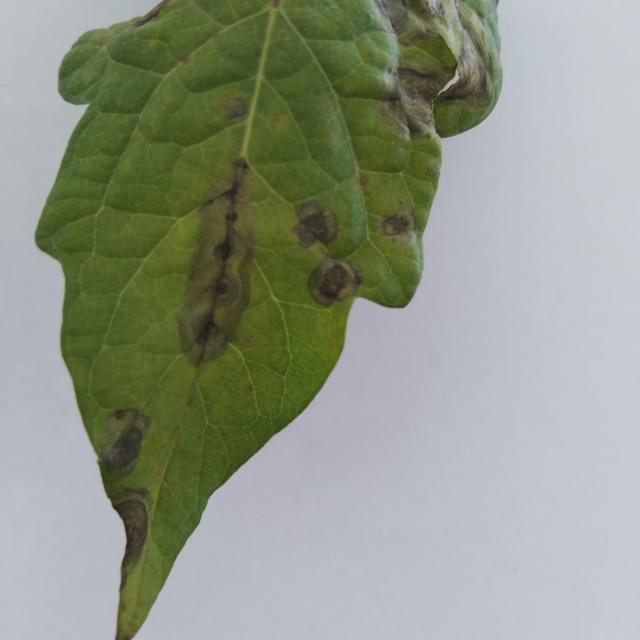Early Blight: (37, 0, 505, 640)
